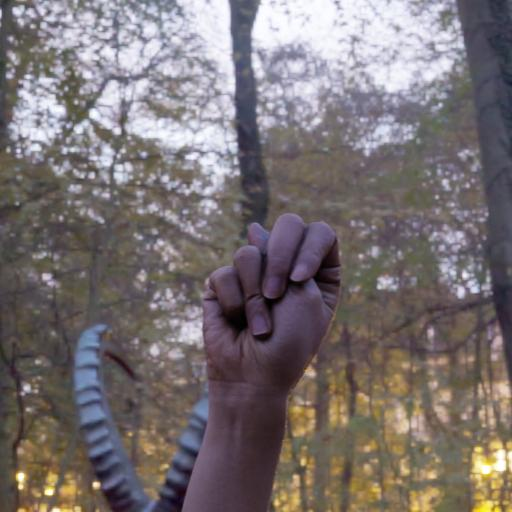N: (170, 197, 349, 422)
